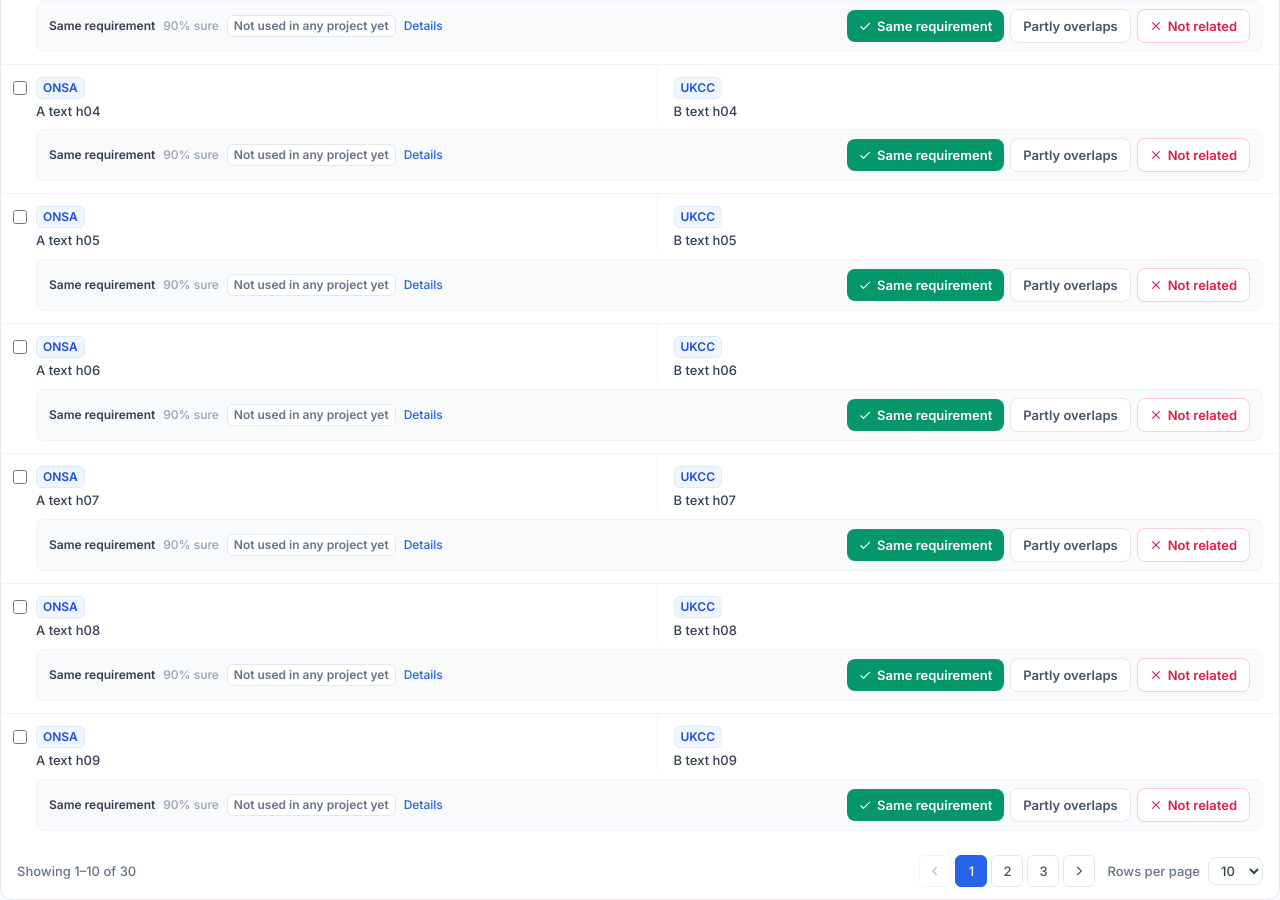
Test: LinkedItemsPanel tabs and filters › changes how many pairs a page holds and goes back to the first page
The width and height of the screenshot is (1280, 900).
(page scrolled)
Click the button named "Next page".
click(1080, 871)  # box [1064,855,1096,887]
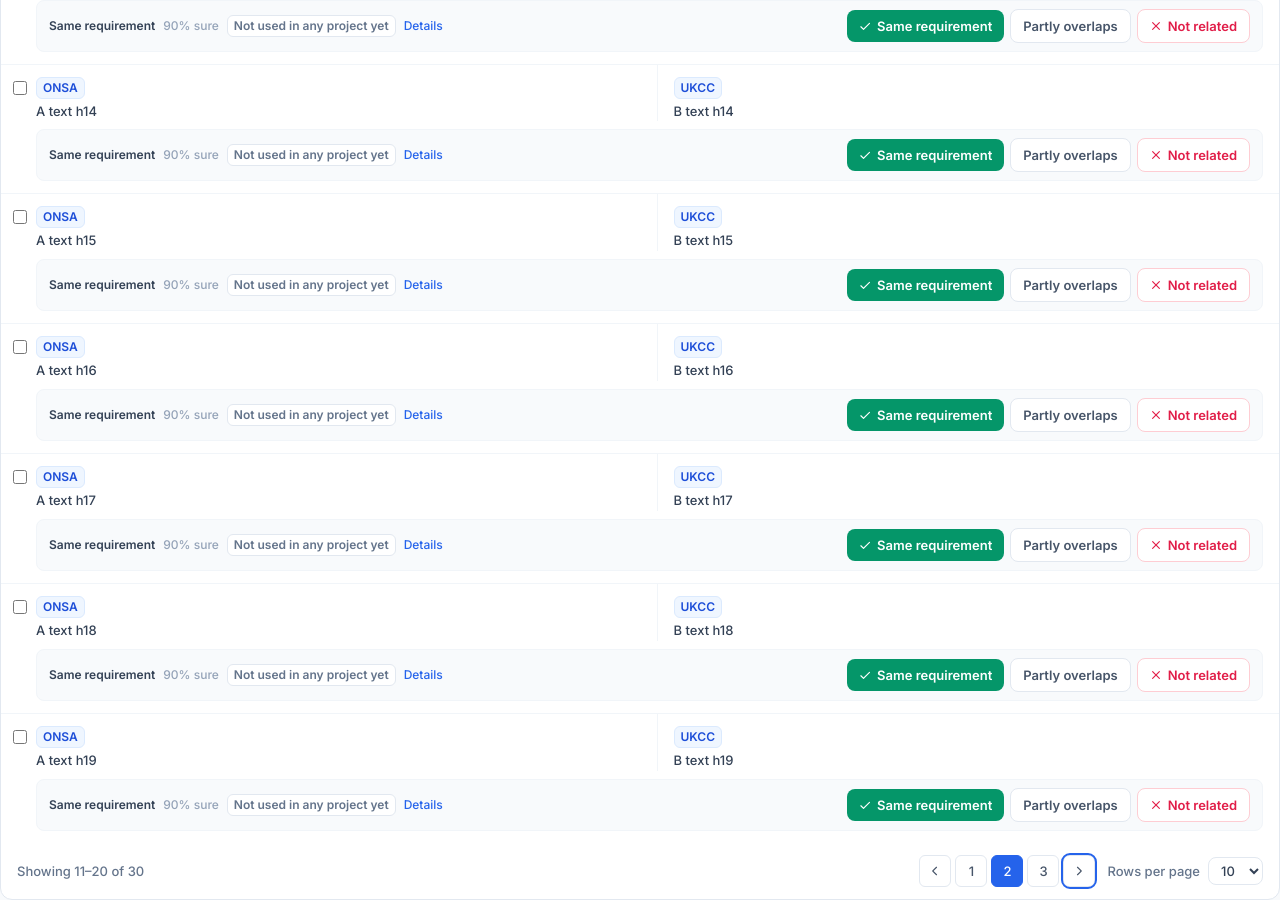
Select "25" in the dropdown named "Rows per page in High confidence" at point(1236, 871), box [1208,857,1263,885]
(page scrolled)
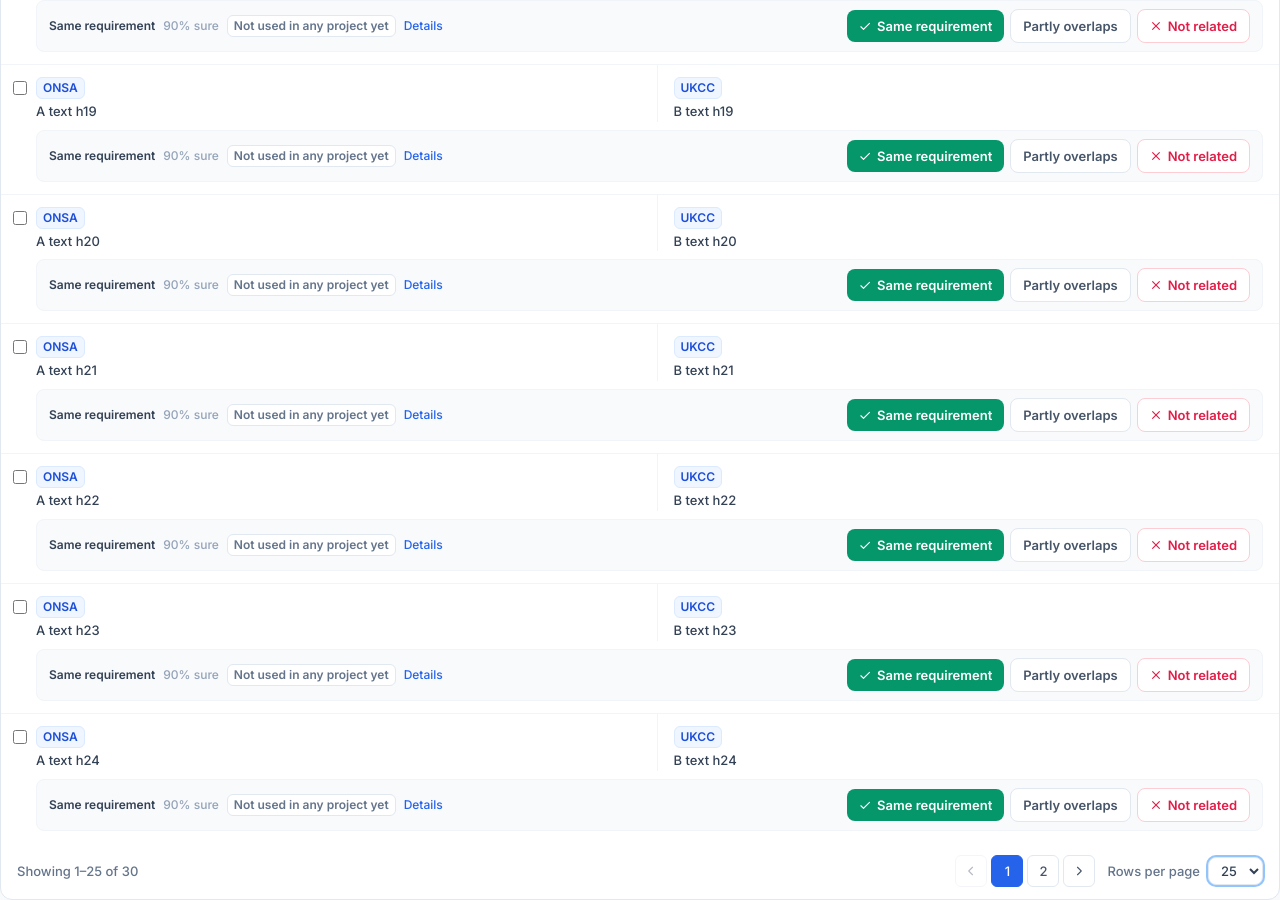
Check: the text "Showing 1–25 of 30" is shown, box [17,861,138,881]
